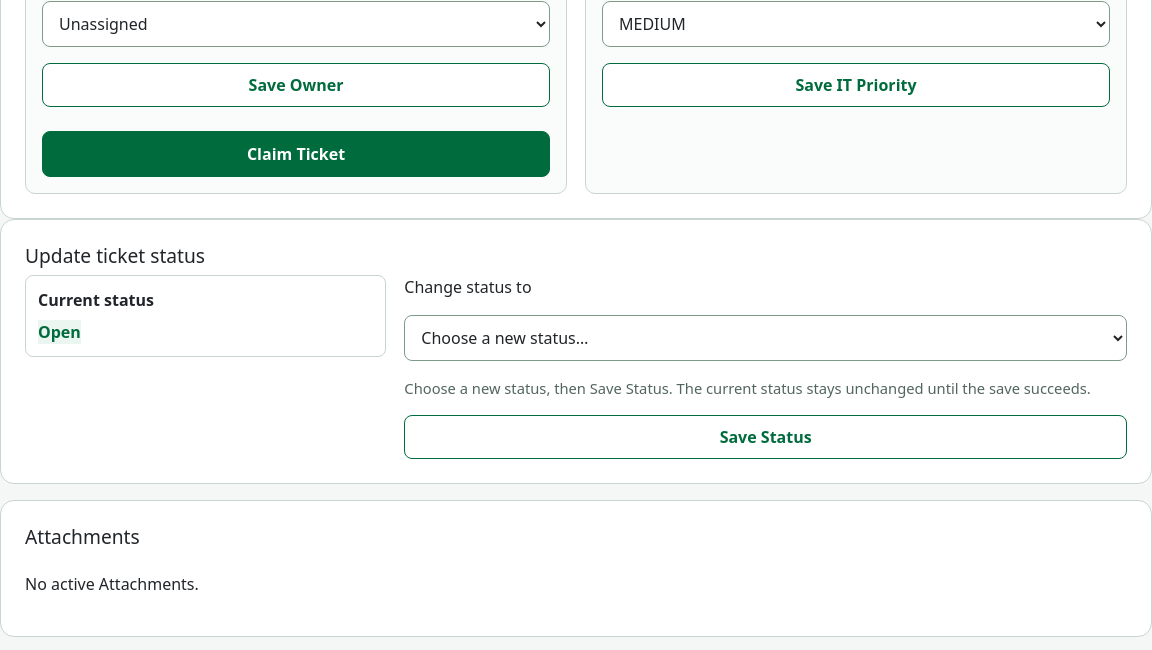
it: requires confirmation, sends only status/version, then refreshes gate and formal history
(page scrolled)
Select "Resolved" in the dropdown labelled "Change status to". click: (766, 338)
box: [404,315,1127,361]
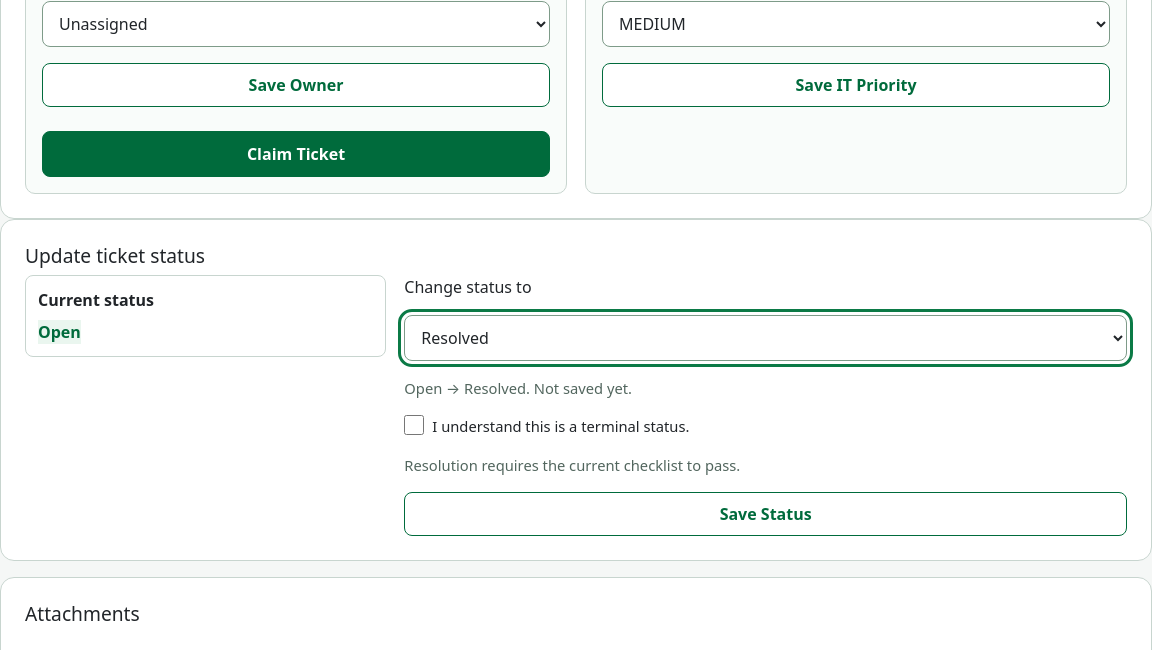
Expected: the button "Save Status" is disabled, [404,492,1127,536]
Click the checkbox labelled "I understand this is a terminal status.". click: (414, 425)
box: [404,415,424,435]
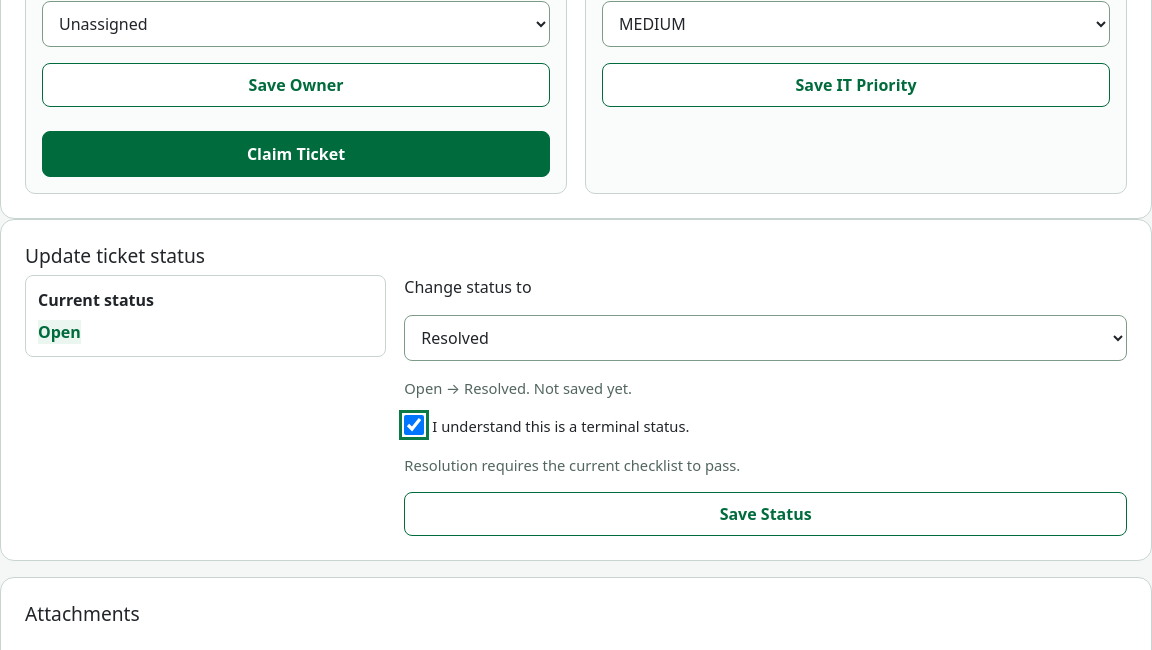
Click the button "Save Status". click: (766, 514)
box: [404,492,1127,536]
(page scrolled)
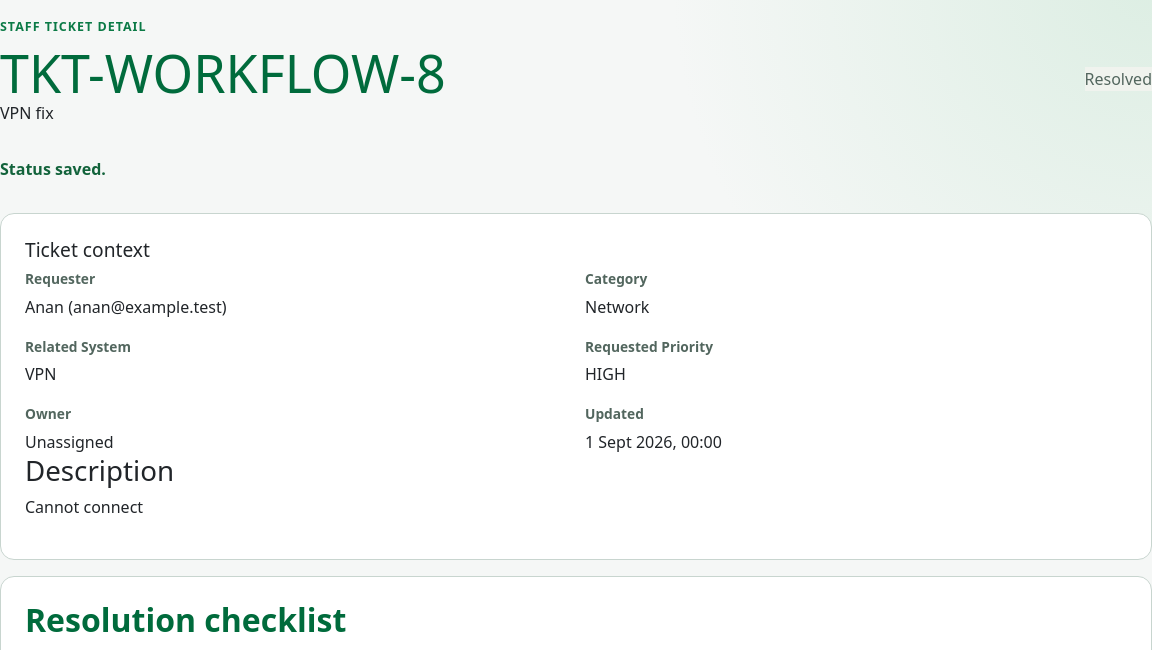
Now the text "Status saved." is shown, box [0,158,106,180]
